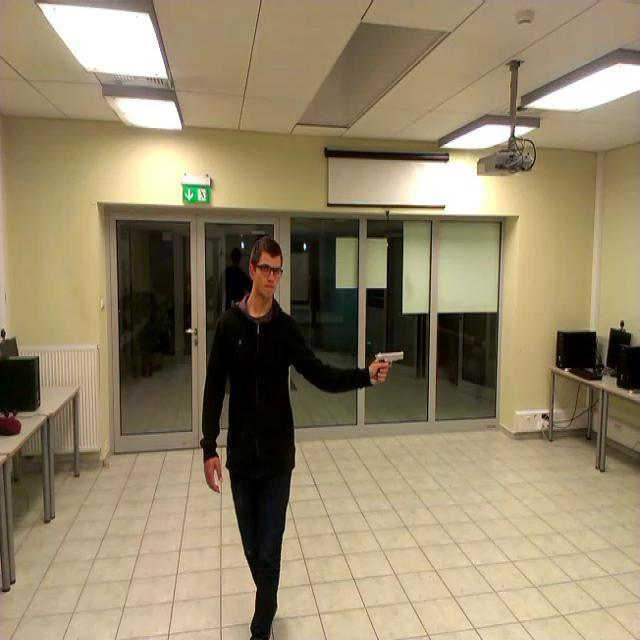weapon: (373, 352, 404, 382)
